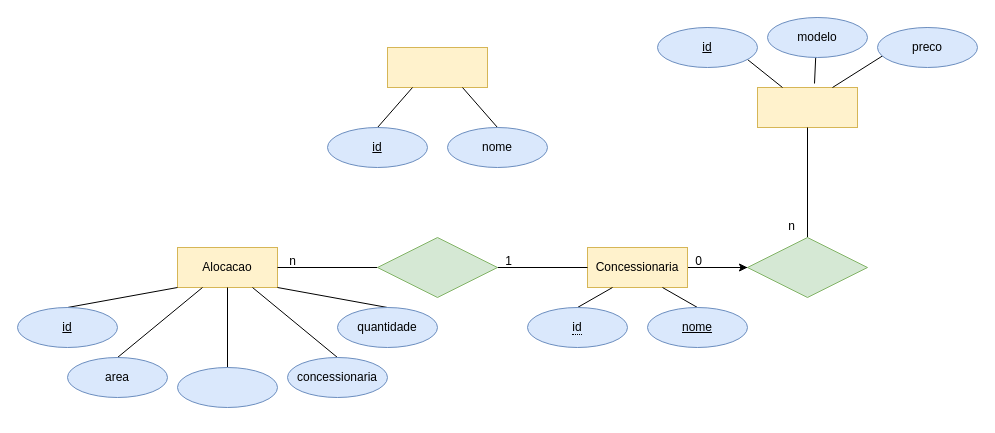
Some shapes in this 995 by 433 pixel diagram are drawn without their labels. Here are the shapes that lost their labels. From the top down, the box of each, then its label:
(386, 46, 488, 88): Cliente
(756, 86, 858, 128): Automoveis
(376, 236, 498, 298): aluga
(746, 236, 868, 298): tem
(176, 366, 278, 408): automovel
